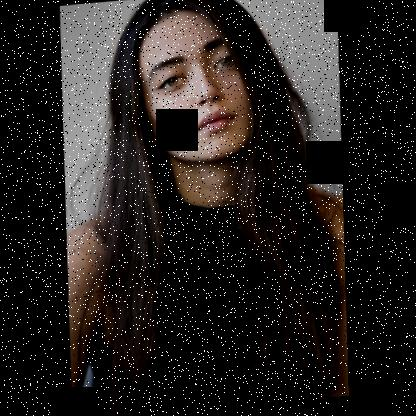Female: (136, 7, 259, 166)
